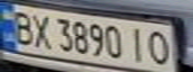0: (103, 22, 127, 60)
3: (51, 15, 75, 53)
8: (69, 18, 90, 55)
9: (87, 20, 106, 57)
B: (6, 7, 39, 46)
I: (124, 25, 151, 63)
O: (142, 27, 175, 68)
X: (27, 11, 54, 50)
